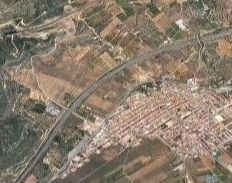motorway: (16, 60, 123, 182), (123, 19, 232, 79)
